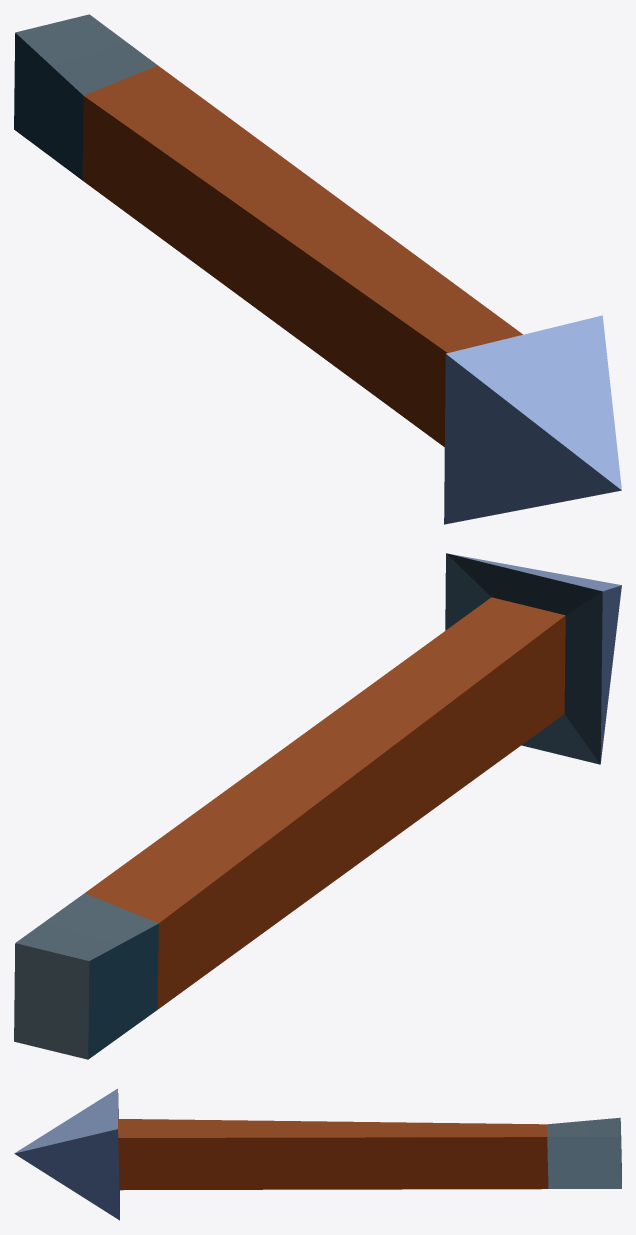
File: PRJ_Arrow._L2fbx.fbx
The picture shows the model from 3 angles, top to bottom: view 1: azimuth 30°, elevation 25°; view 2: azimuth 150°, elevation 25°; view 3: azimuth 270°, elevation 25°; orthographic projection. The views are drawn at different scales.
Parts seen in each view (by area): view 1: Arrow; view 2: Arrow; view 3: Arrow.
Boxes of the visible parts, box(x1,y1,x2,y2) form: Arrow: box(14, 14, 621, 524); Arrow: box(14, 553, 621, 1059); Arrow: box(14, 1088, 621, 1220).
Bounding box in the file's own units: 18.9 × 19.82 × 119.
